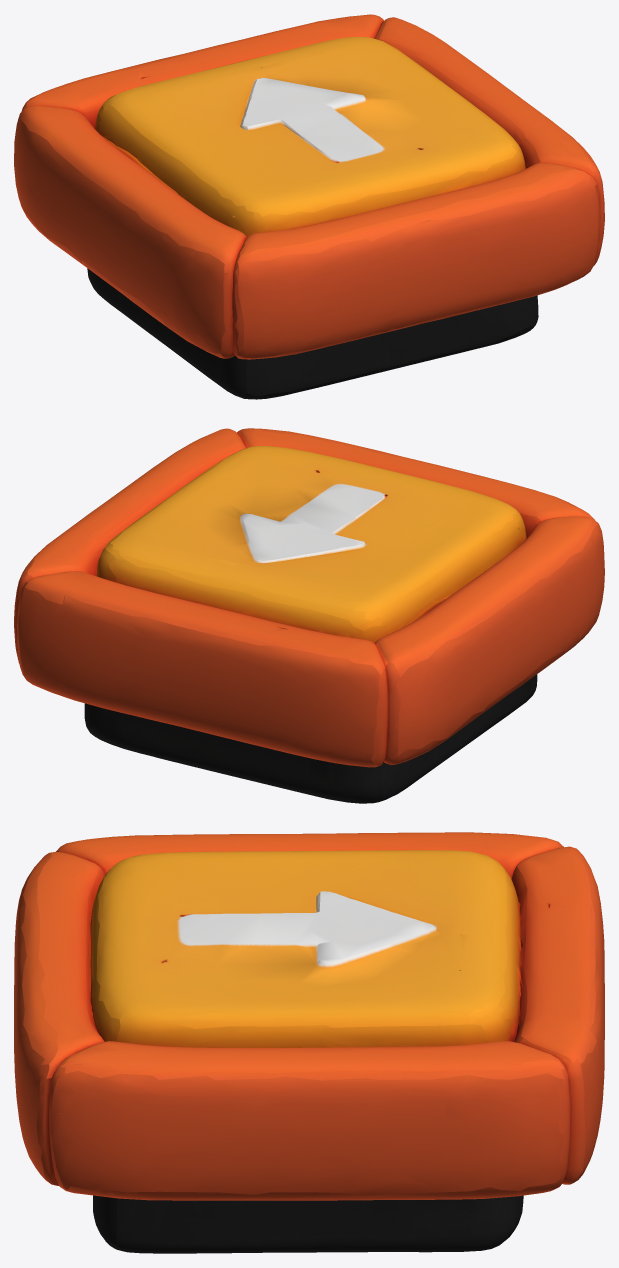
The model's file is PROP_C1_LAUNCHPAD.glb.
3 views of the same model, one above another, from view 1: azimuth 30°, elevation 25°; view 2: azimuth 150°, elevation 25°; view 3: azimuth 270°, elevation 25° (orthographic). The views are drawn at different scales.
Visible parts, largest first — view 1: world; view 2: world; view 3: world.
Boxes of the visible parts, box(x1,y1,x2,y2) form: world: box(14, 14, 604, 399); world: box(14, 428, 604, 803); world: box(14, 832, 604, 1253).
Bounding box in the file's own units: 1 × 0.4554 × 1.
1 material, 1 textured.
